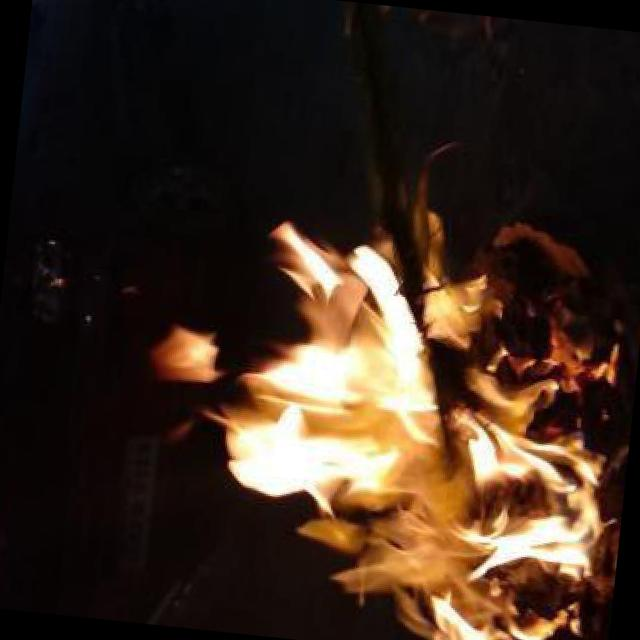Fire: (130, 196, 631, 640)
